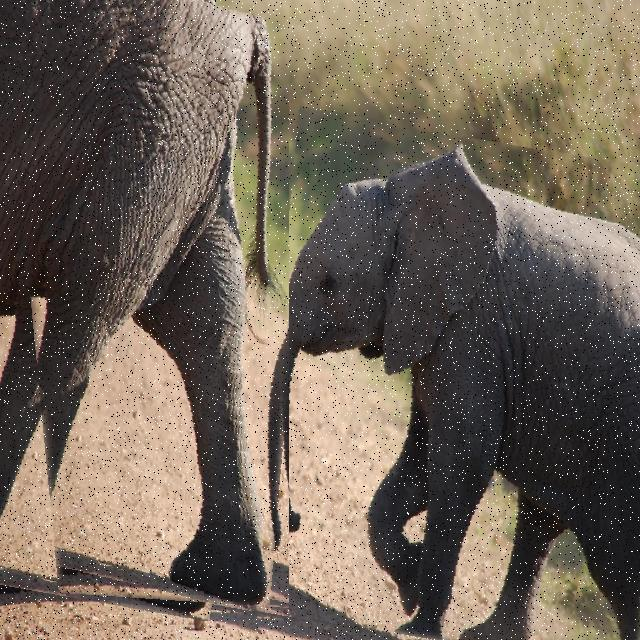elephant: (217, 118, 640, 640), (0, 0, 289, 612)
